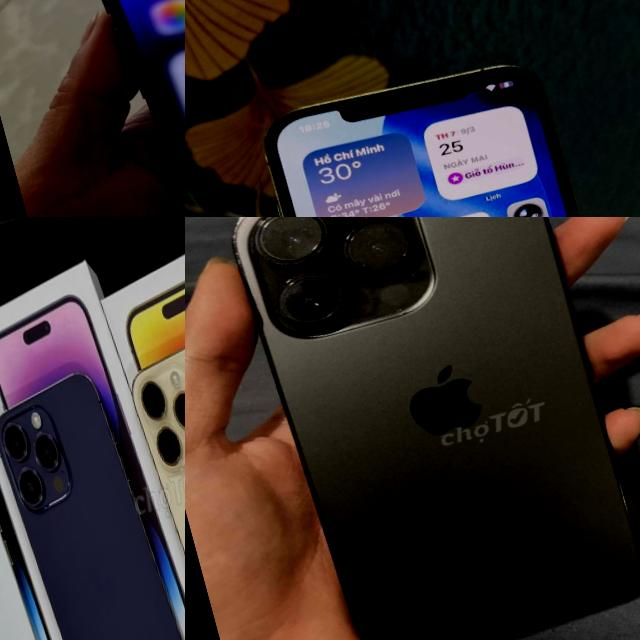gen_12_13: (235, 27, 640, 217)
gen_14: (211, 217, 640, 640), (0, 348, 185, 640), (71, 0, 185, 217)
